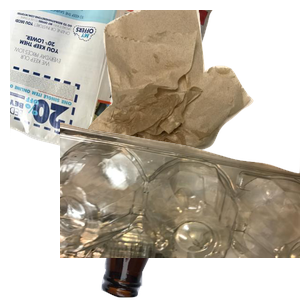glass: (99, 140, 300, 300)
paper: (10, 10, 215, 186)
plastic: (60, 120, 300, 300)
trash: (83, 10, 300, 163)
